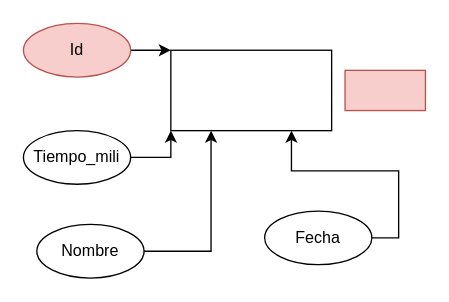
Image size: 449x302. Some labels were removed from this diagram. The centre of each missing label's shape, as x and y in pixels:
PK: point 384,90
Ranking: point 251,90
